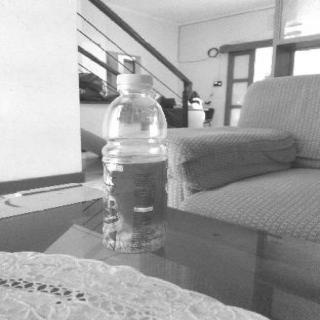plastic_bottles: (99, 73, 172, 256)
